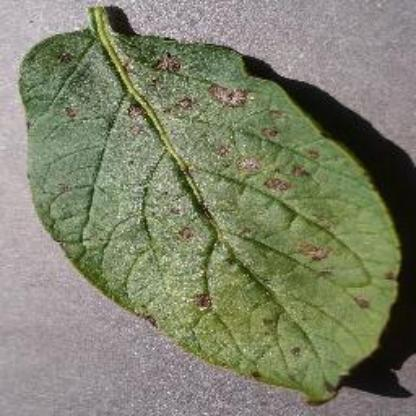Early-Blight: (20, 5, 406, 406)
